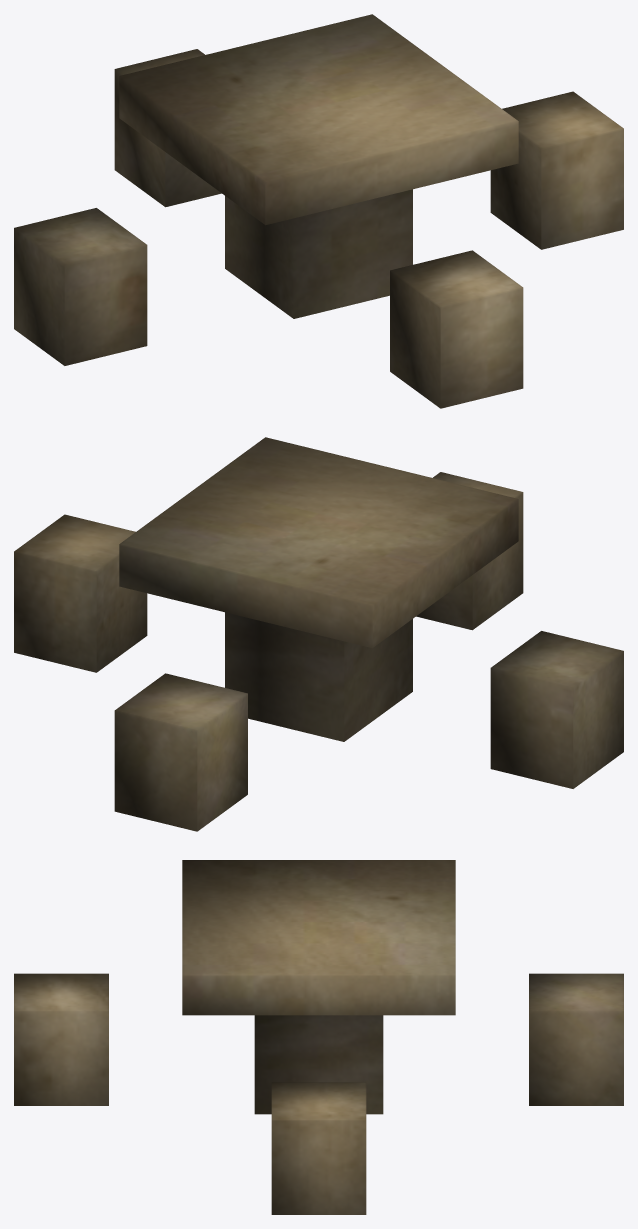
The model's file is bench2.DAE.
The picture shows the model from 3 angles, top to bottom: view 1: azimuth 30°, elevation 25°; view 2: azimuth 150°, elevation 25°; view 3: azimuth 270°, elevation 25°; orthographic projection. The views are drawn at different scales.
Visible parts, largest first — view 1: bench2; view 2: bench2; view 3: bench2.
Boxes of the visible parts, box(x1,y1,x2,y2) form: bench2: box(14, 14, 623, 408); bench2: box(14, 437, 623, 831); bench2: box(14, 860, 623, 1214).
Bounding box in the file's own units: 172 × 174 × 53.23.
